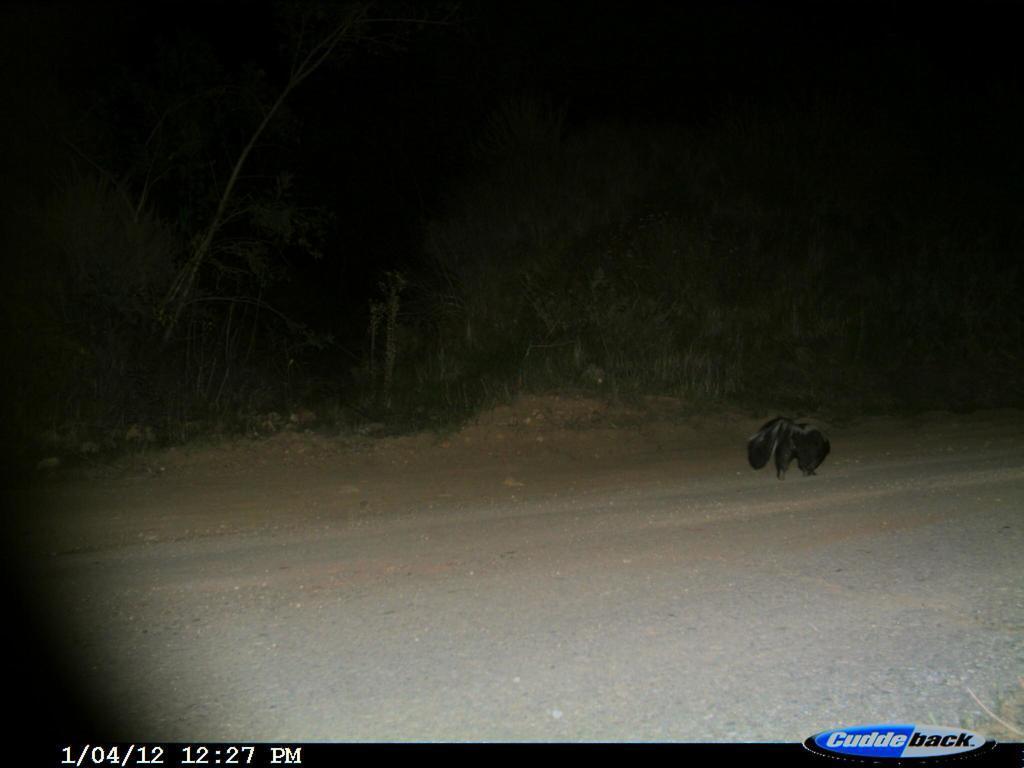skunk: (735, 395, 844, 491)
